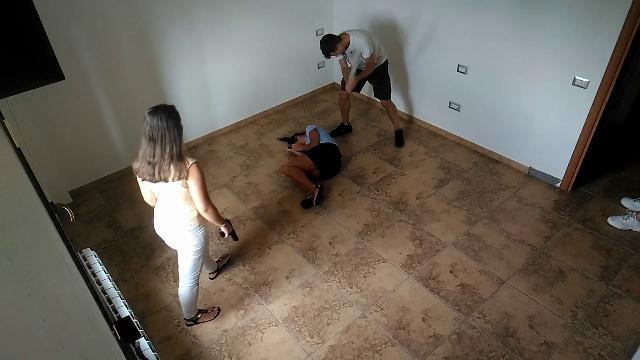violence: (130, 102, 240, 330), (277, 28, 407, 208)
